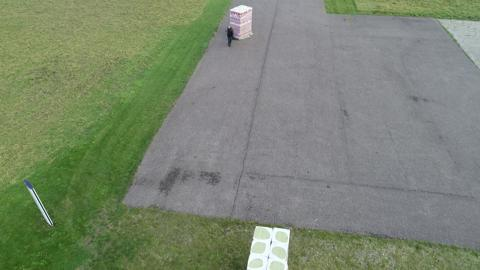RockwoolPallet: (247, 224, 289, 270)
